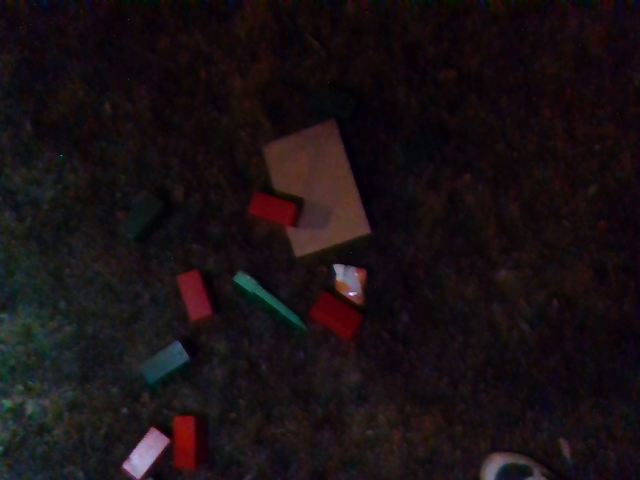Probe: (230, 263, 310, 335)
